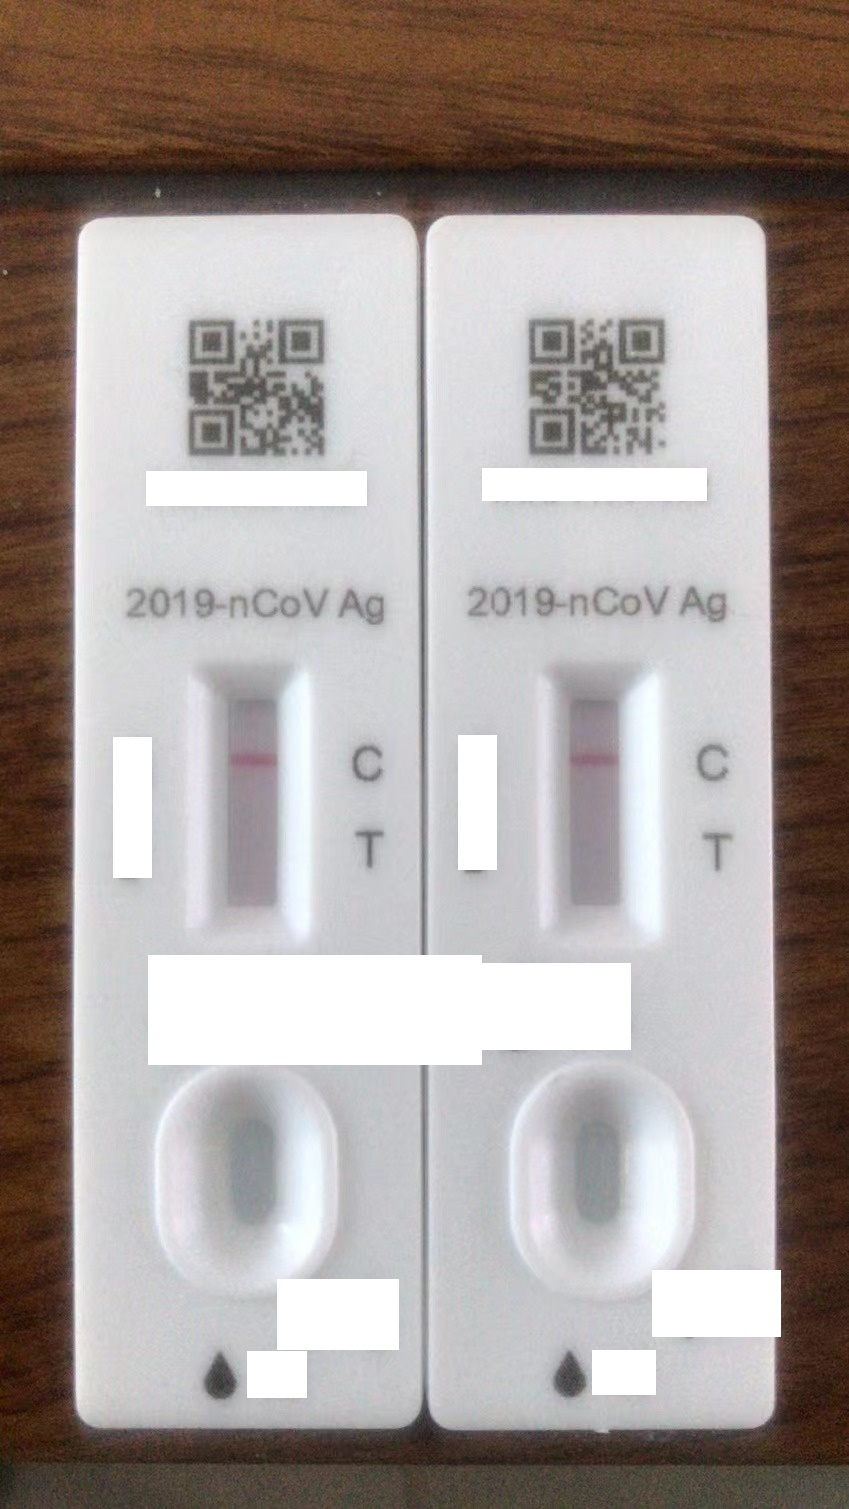negative: (199, 658, 299, 948), (543, 657, 646, 937)
